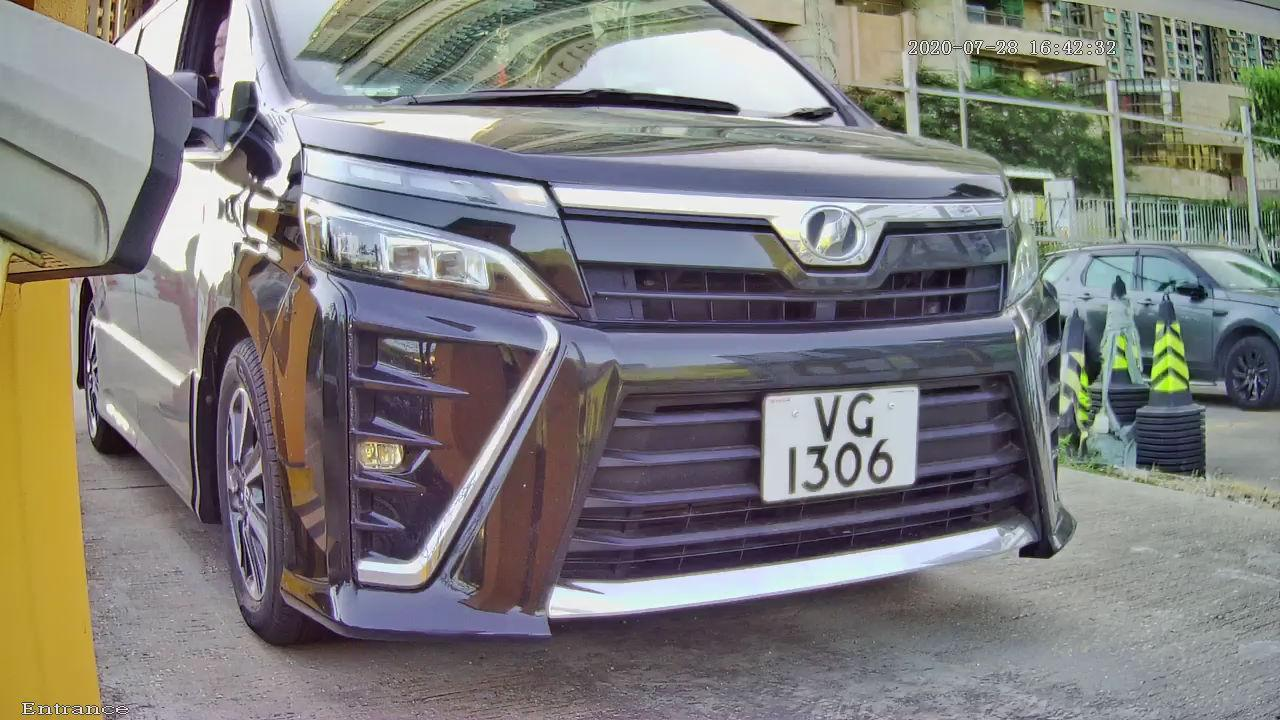privatecar: (75, 13, 1235, 682)
